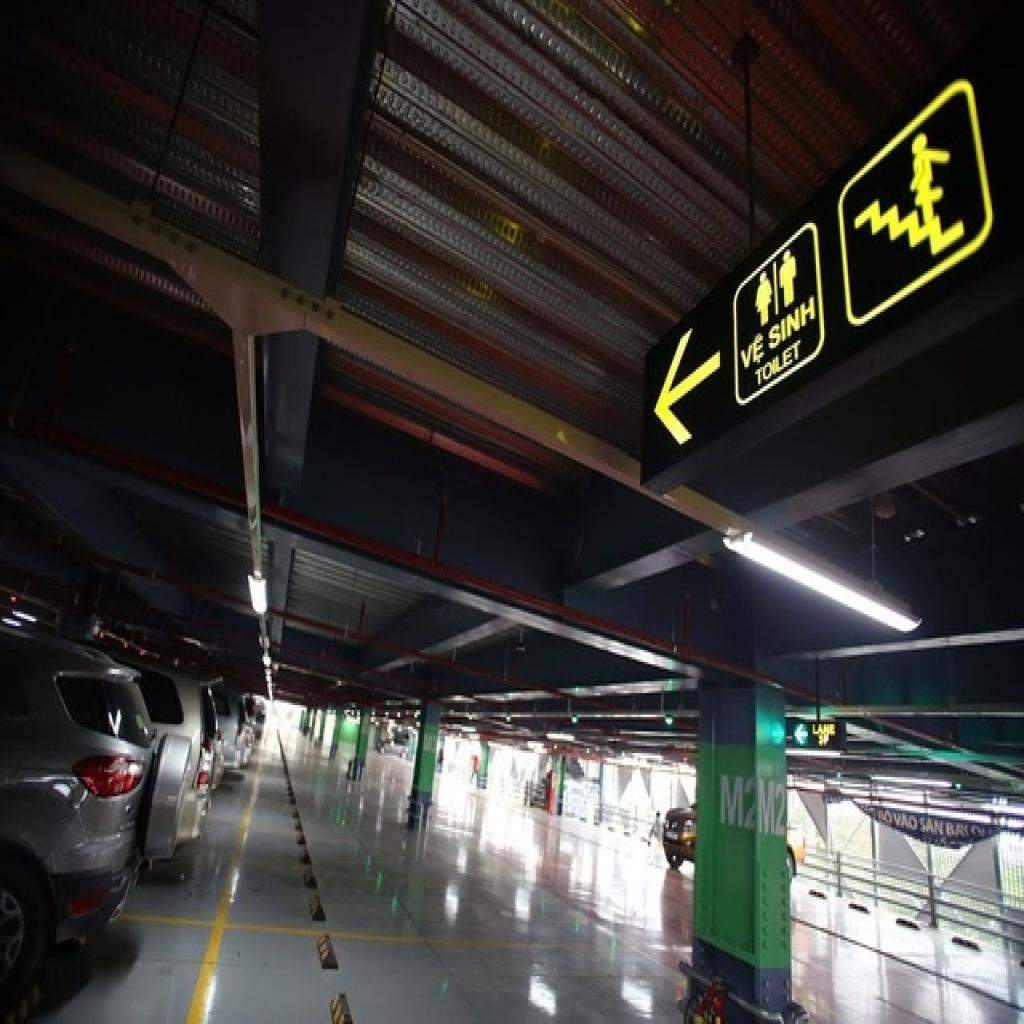text: (765, 290, 819, 357), (752, 336, 805, 391), (717, 768, 758, 834), (757, 777, 789, 842), (738, 328, 768, 376), (810, 720, 838, 738)
